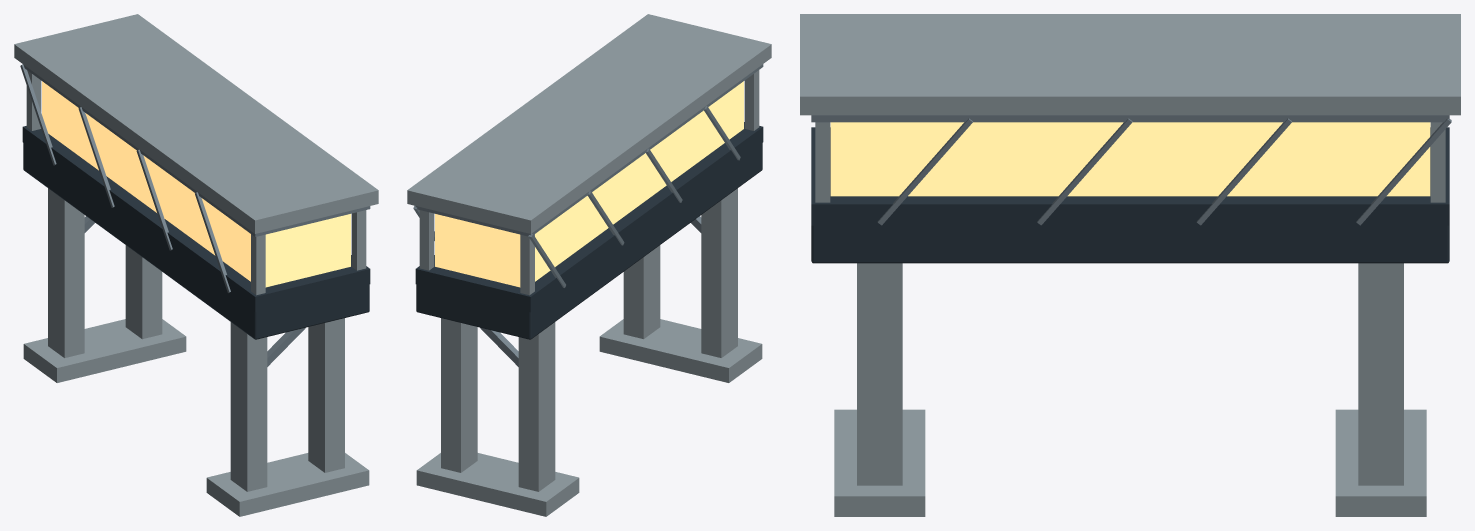
File: vrx_city_bridge_a_LOD0.fbx
The picture shows the model from 3 angles, left to right: view 1: azimuth 30°, elevation 25°; view 2: azimuth 150°, elevation 25°; view 3: azimuth 270°, elevation 25°; orthographic projection. The views are drawn at different scales.
Parts seen in each view (by area): view 1: vrx_city_bridge_a_LOD0; view 2: vrx_city_bridge_a_LOD0; view 3: vrx_city_bridge_a_LOD0.
Boxes of the visible parts, bbox=[...] form: vrx_city_bridge_a_LOD0: bbox=[14, 14, 378, 516]; vrx_city_bridge_a_LOD0: bbox=[407, 14, 771, 516]; vrx_city_bridge_a_LOD0: bbox=[800, 14, 1460, 516].
Size of the model in its own units: 9 by 20.25 by 29.
